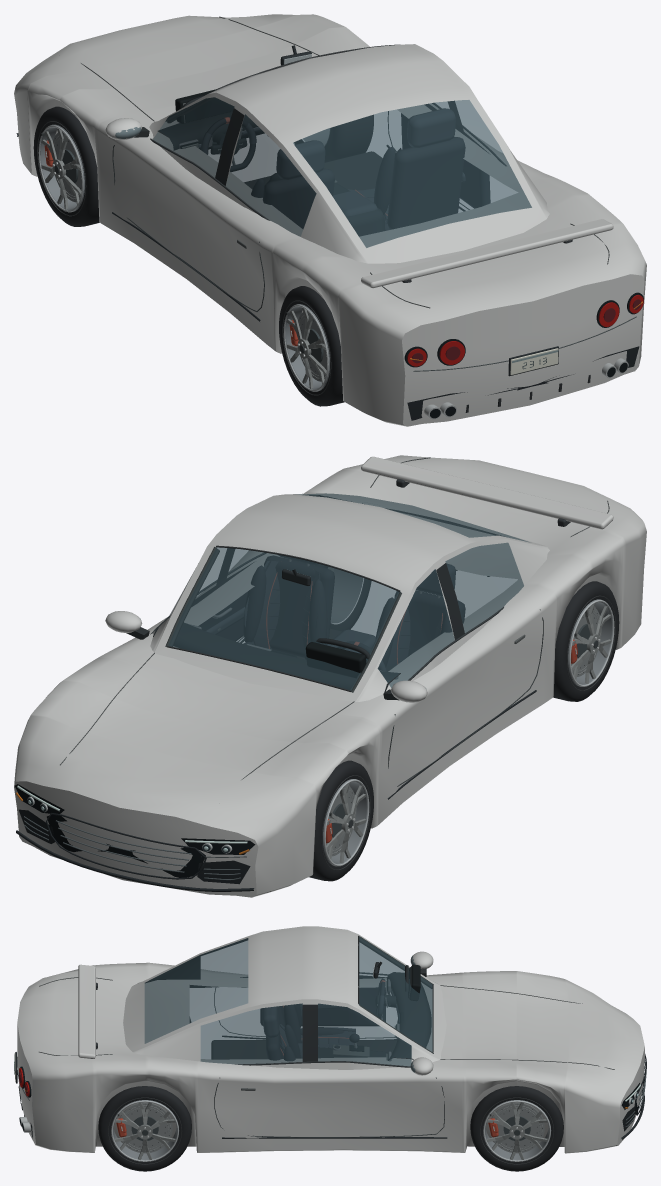
Rendered from kaido-r.glb.
3 renders of one model, top to bottom at view 1: azimuth 30°, elevation 25°; view 2: azimuth 150°, elevation 25°; view 3: azimuth 270°, elevation 25°, orthographic. The views are drawn at different scales.
Visible parts, largest first — view 1: paint, glass, wheelSurface (×3), SeatUpholstery, trim, CabinMouldings, CabinLeather, brake, SteeringLeather; view 2: paint, glass, wheelSurface (×3), trim, SeatUpholstery, CabinMouldings, CabinLeather; view 3: paint, glass, wheelSurface (×2), trim, CabinMouldings, SeatUpholstery, CabinLeather, CockpitHardware.
Part boxes in pixels (x1=…): paint: x1=14, y1=14, x2=646, y2=426; glass: x1=115, y1=97, x2=531, y2=247; wheelSurface (×3): x1=33, y1=106, x2=373, y2=406; SeatUpholstery: x1=251, y1=108, x2=465, y2=230; trim: x1=16, y1=16, x2=643, y2=420; CabinMouldings: x1=157, y1=45, x2=384, y2=236; CabinLeather: x1=199, y1=113, x2=490, y2=216; brake: x1=407, y1=294, x2=643, y2=366; SteeringLeather: x1=201, y1=117, x2=256, y2=171; paint: x1=14, y1=455, x2=646, y2=897; glass: x1=140, y1=493, x2=529, y2=690; wheelSurface (×3): x1=309, y1=564, x2=619, y2=881; trim: x1=15, y1=457, x2=609, y2=891; SeatUpholstery: x1=243, y1=555, x2=465, y2=671; CabinMouldings: x1=153, y1=569, x2=400, y2=692; CabinLeather: x1=199, y1=592, x2=375, y2=659; paint: x1=17, y1=926, x2=644, y2=1153; glass: x1=144, y1=937, x2=432, y2=1072; wheelSurface (×2): x1=98, y1=1086, x2=563, y2=1171; trim: x1=14, y1=935, x2=646, y2=1139; CabinMouldings: x1=211, y1=961, x2=431, y2=1060; SeatUpholstery: x1=263, y1=1004, x2=355, y2=1060; CabinLeather: x1=260, y1=987, x2=398, y2=1058; CockpitHardware: x1=332, y1=967, x2=411, y2=1060.
Bounding box in the file's own units: 2.09 × 1.37 × 4.73.
